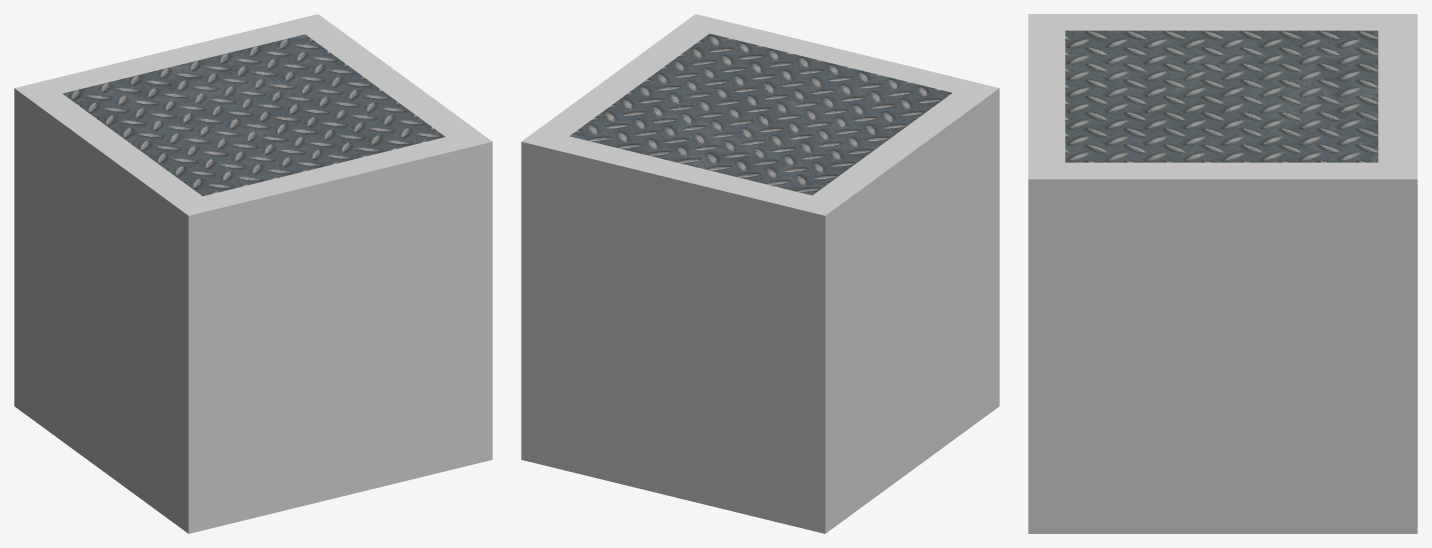
Rendered from PressTile.fbx.
3 renders of one model, left to right at view 1: azimuth 30°, elevation 25°; view 2: azimuth 150°, elevation 25°; view 3: azimuth 270°, elevation 25°, orthographic. The views are drawn at different scales.
Parts seen in each view (by area): view 1: PressTile, plant; view 2: PressTile, plant; view 3: PressTile, plant.
Part boxes in pixels (x1,y1,x2,y2): PressTile: [14, 14, 492, 533]; plant: [62, 34, 445, 196]; PressTile: [521, 14, 999, 533]; plant: [569, 33, 952, 195]; PressTile: [1028, 14, 1417, 533]; plant: [1065, 30, 1378, 162].
Bounding box in the file's own units: 5 × 5 × 4.97.
